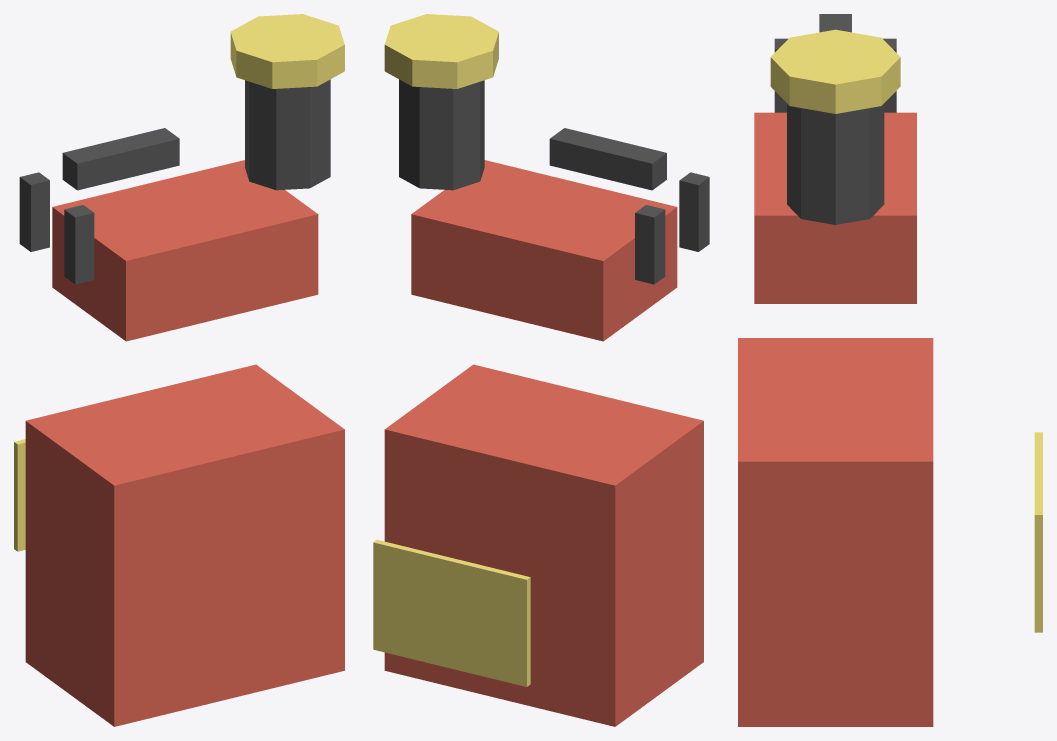
File: jerry_can.glb
3 views of the same model, side by side, from view 1: azimuth 30°, elevation 25°; view 2: azimuth 150°, elevation 25°; view 3: azimuth 270°, elevation 25° (orthographic). The views are drawn at different scales.
Visible parts, largest first — view 1: jerry_can; view 2: jerry_can; view 3: jerry_can.
Part boxes in pixels (left/top/right/bottom): jerry_can: left=14, top=14, right=344, bottom=726; jerry_can: left=373, top=14, right=709, bottom=726; jerry_can: left=738, top=14, right=1042, bottom=726.
Bounding box in the file's own units: 0.2275 × 0.45 × 0.1875.
